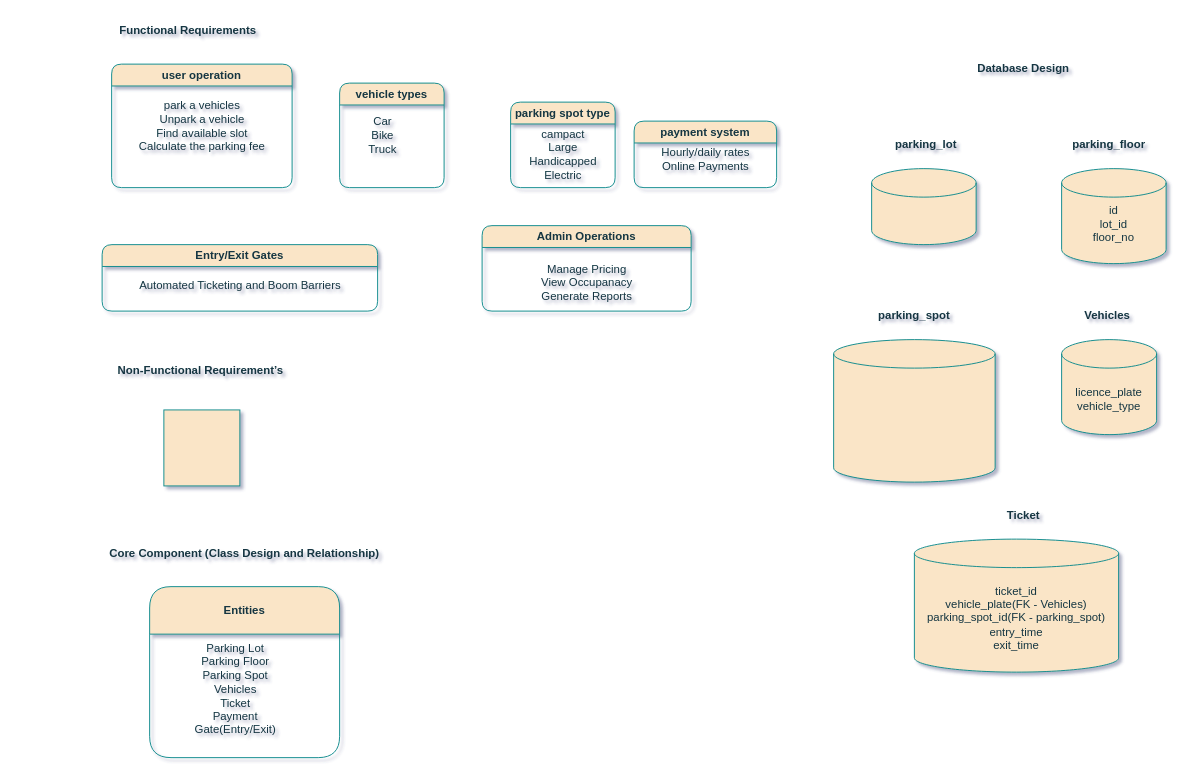
The diagram is 1188 pixels wide and 780 high, and some of its shapes have lost their labels. Here are the shapes that lost their labels. From the top down, the centre of each, then its label:
the point at 923,206: id name
the point at 914,410: id floor_id(FK - parking_floor ) spot_type (Compact/Large/Bike) is_Occupied
the point at 201,447: Scalability Concurrency Availability Performance Security
